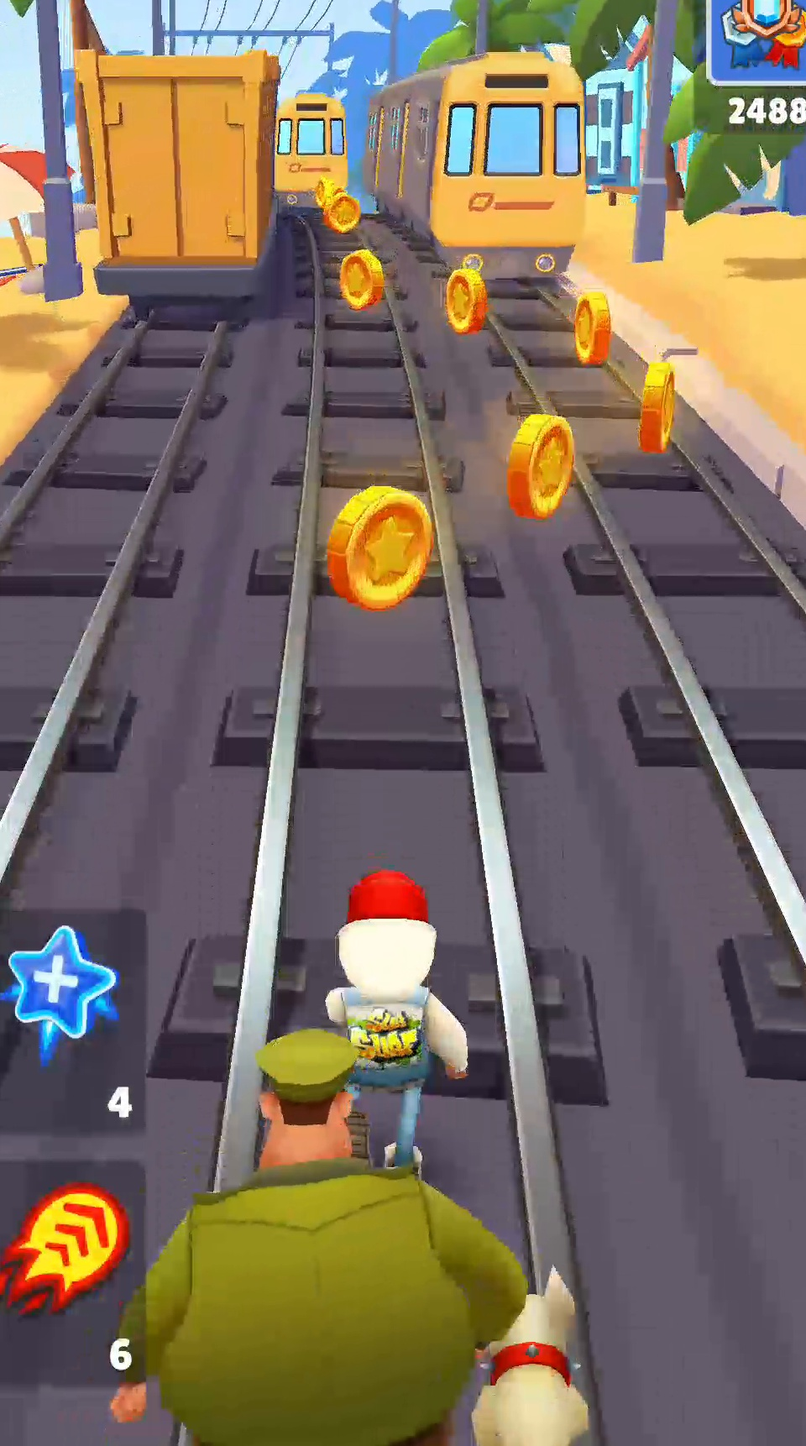police: (113, 1030, 527, 1445)
train: (362, 50, 586, 296), (75, 50, 279, 301), (275, 93, 346, 209)
